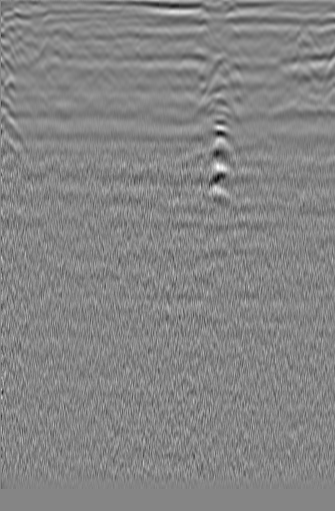가스: (197, 135, 241, 169)
상수: (6, 32, 33, 62)
오수: (285, 22, 317, 59)
우수: (137, 32, 166, 58)
